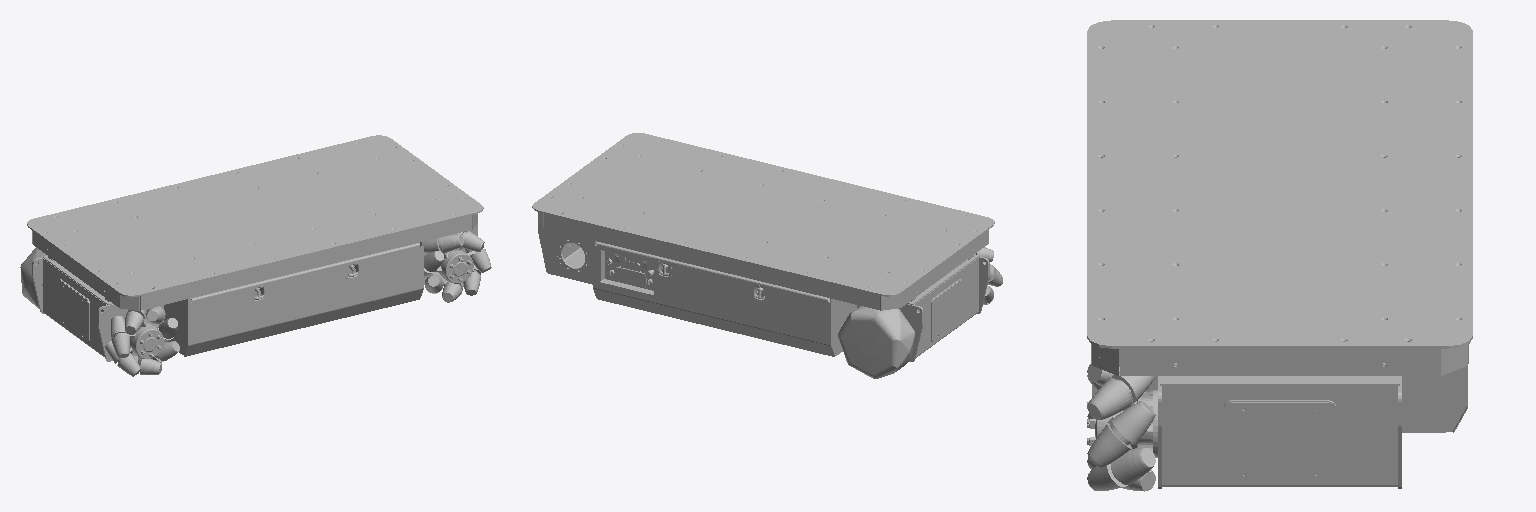
The robot description file, URDF, robot "vetex":
<?xml version="1.0" ?>
<!-- =================================================================================== -->
<!-- |    This document was autogenerated by xacro from vetex.xacro                    | -->
<!-- |    EDITING THIS FILE BY HAND IS NOT RECOMMENDED                                 | -->
<!-- =================================================================================== -->
<robot name="vetex" xmlns:xacro="http://ros.org/wiki/xacro">
  <link name="base_link">
    <visual>
      <origin rpy="0 0 0"/>
      <geometry>
        <mesh filename="package://vetex_support/meshes/visual/base_link.stl"/>
      </geometry>
      <material name="">
        <color rgba="0.75294 0.75294 0.75294 1"/>
      </material>
    </visual>
    <collision>
      <origin rpy="0 0 0" xyz="0 0 0"/>
      <geometry>
        <mesh filename="package://vetex_support/meshes/collision/base_link.stl"/>
      </geometry>
    </collision>
  </link>
  <link name="map">
    <visual>
      <origin rpy="0 0 0" xyz="0 0 0"/>
      <geometry>
        <mesh filename="package://vetex_support/meshes/visual/map.stl"/>
      </geometry>
      <material name="">
        <color rgba="0.75294 0.75294 0.75294 1"/>
      </material>
    </visual>
    <collision>
      <origin Rpy="0 0 0" xyz="0 0 0"/>
      <geometry>
        <mesh filename="package://vetex_support/meshes/collision/map.stl"/>
      </geometry>
    </collision>
  </link>
  <link name="odom">
    <visual>
      <origin rpy="0 0 0" xyz="0 0 0"/>
      <geometry>
        <mesh filename="package://vetex_support/meshes/visual/odom.stl"/>
      </geometry>
      <material name="">
        <color rgba="0.75294 0.75294 0.75294 1"/>
      </material>
    </visual>
    <collision>
      <origin rpy="0 0 0" xyz="0 0 0"/>
      <geometry>
        <mesh filename="package://vetex_support/meshes/collision/odom.stl"/>
      </geometry>
    </collision>
  </link>
  <link name="left_front_wheel">
    <visual>
      <origin rpy="0 0 0" xyz="0 0 0"/>
      <geometry>
        <mesh filename="package://vetex_support/meshes/visual/left_front_wheel.stl"/>
      </geometry>
      <material name="">
        <color rgba="0.75294 0.75294 0.75294 1"/>
      </material>
    </visual>
    <collision>
      <origin rpy="0 0 0" xyz="0 0 0"/>
      <geometry>
        <mesh filename="package://vetex_support/meshes/collision/left_front_wheel.stl"/>
      </geometry>
    </collision>
  </link>
  <link name="left_rear_wheel">
    <visual>
      <origin rpy="0 0 0" xyz="0 0 0"/>
      <geometry>
        <mesh filename="package://vetex_support/meshes/visual/left_rear_wheel.stl"/>
      </geometry>
      <material name="">
        <color rgba="0.75294 0.75294 0.75294 1"/>
      </material>
    </visual>
    <collision>
      <origin rpy="0 0 0" xyz="0 0 0"/>
      <geometry>
        <mesh filename="package://vetex_support/meshes/collision/left_rear_wheel.stl"/>
      </geometry>
    </collision>
  </link>
  <link name="right_rear_wheel">
    <visual>
      <origin rpy="3.1415 0 0" xyz="0 0 0"/>
      <geometry>
        <mesh filename="package://vetex_support/meshes/visual/right_rear_wheel.stl"/>
      </geometry>
      <material name="">
        <color rgba="0.75294 0.75294 0.75294 1"/>
      </material>
    </visual>
    <collision>
      <origin rpy="3.1415 0 0" xyz="0 0 0"/>
      <geometry>
        <mesh filename="package://vetex_support/meshes/collision/right_rear_wheel.stl"/>
      </geometry>
    </collision>
  </link>
  <link name="right_front_wheel">
    <visual>
      <origin rpy="3.1415 0 0" xyz="0 0 0"/>
      <geometry>
        <mesh filename="package://vetex_support/meshes/visual/right_front_wheel.stl"/>
      </geometry>
      <material name="">
        <color rgba="0.75294 0.75294 0.75294 1"/>
      </material>
    </visual>
    <collision>
      <origin rpy="3.1415 0 0" xyz="0 0 0"/>
      <geometry>
        <mesh filename="package://vetex_support/meshes/collision/right_front_wheel.stl"/>
      </geometry>
    </collision>
  </link>
  <joint name="map" type="fixed">
    <origin rpy="0 0 0" xyz="0 0 0"/>
    <parent link="base_link"/>
    <child link="map"/>
    <axis xyz="0 0 0"/>
  </joint>
  <joint name="odom" type="fixed">
    <origin rpy="0 0 0" xyz="0 0 0"/>
    <parent link="map"/>
    <child link="odom"/>
    <axis xyz="0 0 0"/>
  </joint>
  <joint name="left_front_wheel" type="revolute">
    <origin rpy="0 1 0" xyz="0 0.58668 0.21577"/>
    <parent link="odom"/>
    <child link="left_front_wheel"/>
    <axis xyz="0 1 0"/>
    <limit effort="0" lower="-10" upper="10" velocity="3"/>
  </joint>
  <joint name="left_rear_wheel" type="revolute">
    <origin rpy="0 1 0" xyz="-2.0878 0.58642 0.21577"/>
    <parent link="odom"/>
    <child link="left_rear_wheel"/>
    <axis xyz="0 1 0"/>
    <limit effort="0" lower="-10" upper="10" velocity="3"/>
  </joint>
  <joint name="right_rear_wheel" type="revolute">
    <origin rpy="0 1 0" xyz="-2.0878 -0.58668 0.21577"/>
    <parent link="odom"/>
    <child link="right_rear_wheel"/>
    <axis xyz="0 1 0"/>
    <limit effort="0" lower="-10" upper="10" velocity="3"/>
  </joint>
  <joint name="right_front_wheel" type="revolute">
    <origin rpy="0 0 0" xyz="0 -0.58642 0.21577"/>
    <parent link="odom"/>
    <child link="right_front_wheel"/>
    <axis xyz="0 1 0"/>
    <limit effort="0" lower="-10" upper="10" velocity="3"/>
  </joint>
</robot>

--- What the picture shows (computed from the rendered views, not written in the file) ---
3 views of the same robot in one strip: view 1: azimuth 30°, elevation 25°; view 2: azimuth 150°, elevation 25°; view 3: azimuth 270°, elevation 25° (orthographic).
Robot: vetex — 7 links, 6 joints (4 revolute, 2 fixed); root link base_link; default pose: every joint at zero.
Links seen in each view (by area): view 1: base_link, right_rear_wheel, right_front_wheel, left_rear_wheel; view 2: base_link, left_rear_wheel, right_rear_wheel; view 3: base_link, right_front_wheel.
Link boxes in pixels (x1,y1,x2,y2): base_link: (27, 135, 483, 361); right_rear_wheel: (105, 306, 179, 376); right_front_wheel: (423, 231, 491, 302); left_rear_wheel: (20, 247, 47, 308); base_link: (532, 133, 994, 361); left_rear_wheel: (838, 306, 914, 378); right_rear_wheel: (974, 247, 1002, 304); base_link: (1087, 20, 1472, 488); right_front_wheel: (1087, 364, 1157, 491).
Bounding box of the posed robot: 2.56 × 1.22 × 0.5703 m (x, y, z).
6 mesh visuals loaded from 7 distinct referenced files (6 binary STL); not drawn: 1 (reference not matched to a file when rendering).
